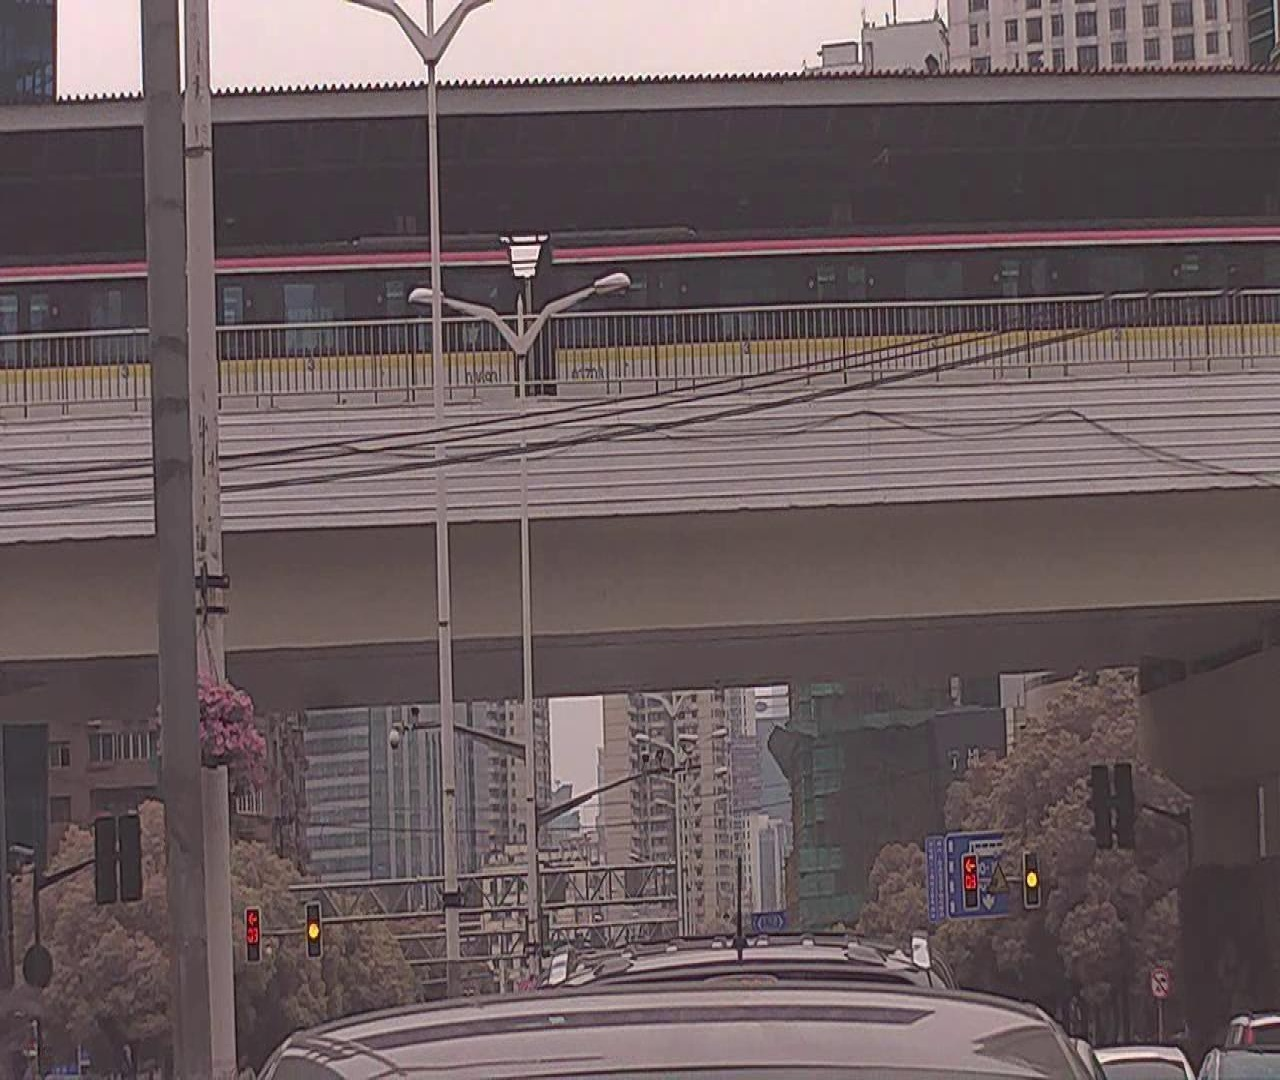red: (243, 907, 262, 961), (965, 855, 978, 904)
yellow: (1022, 855, 1041, 906), (305, 903, 321, 955)
